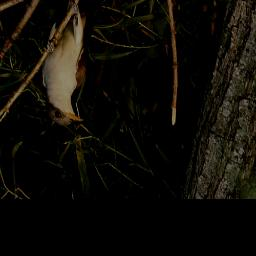Cuckoo: (39, 0, 133, 127)
